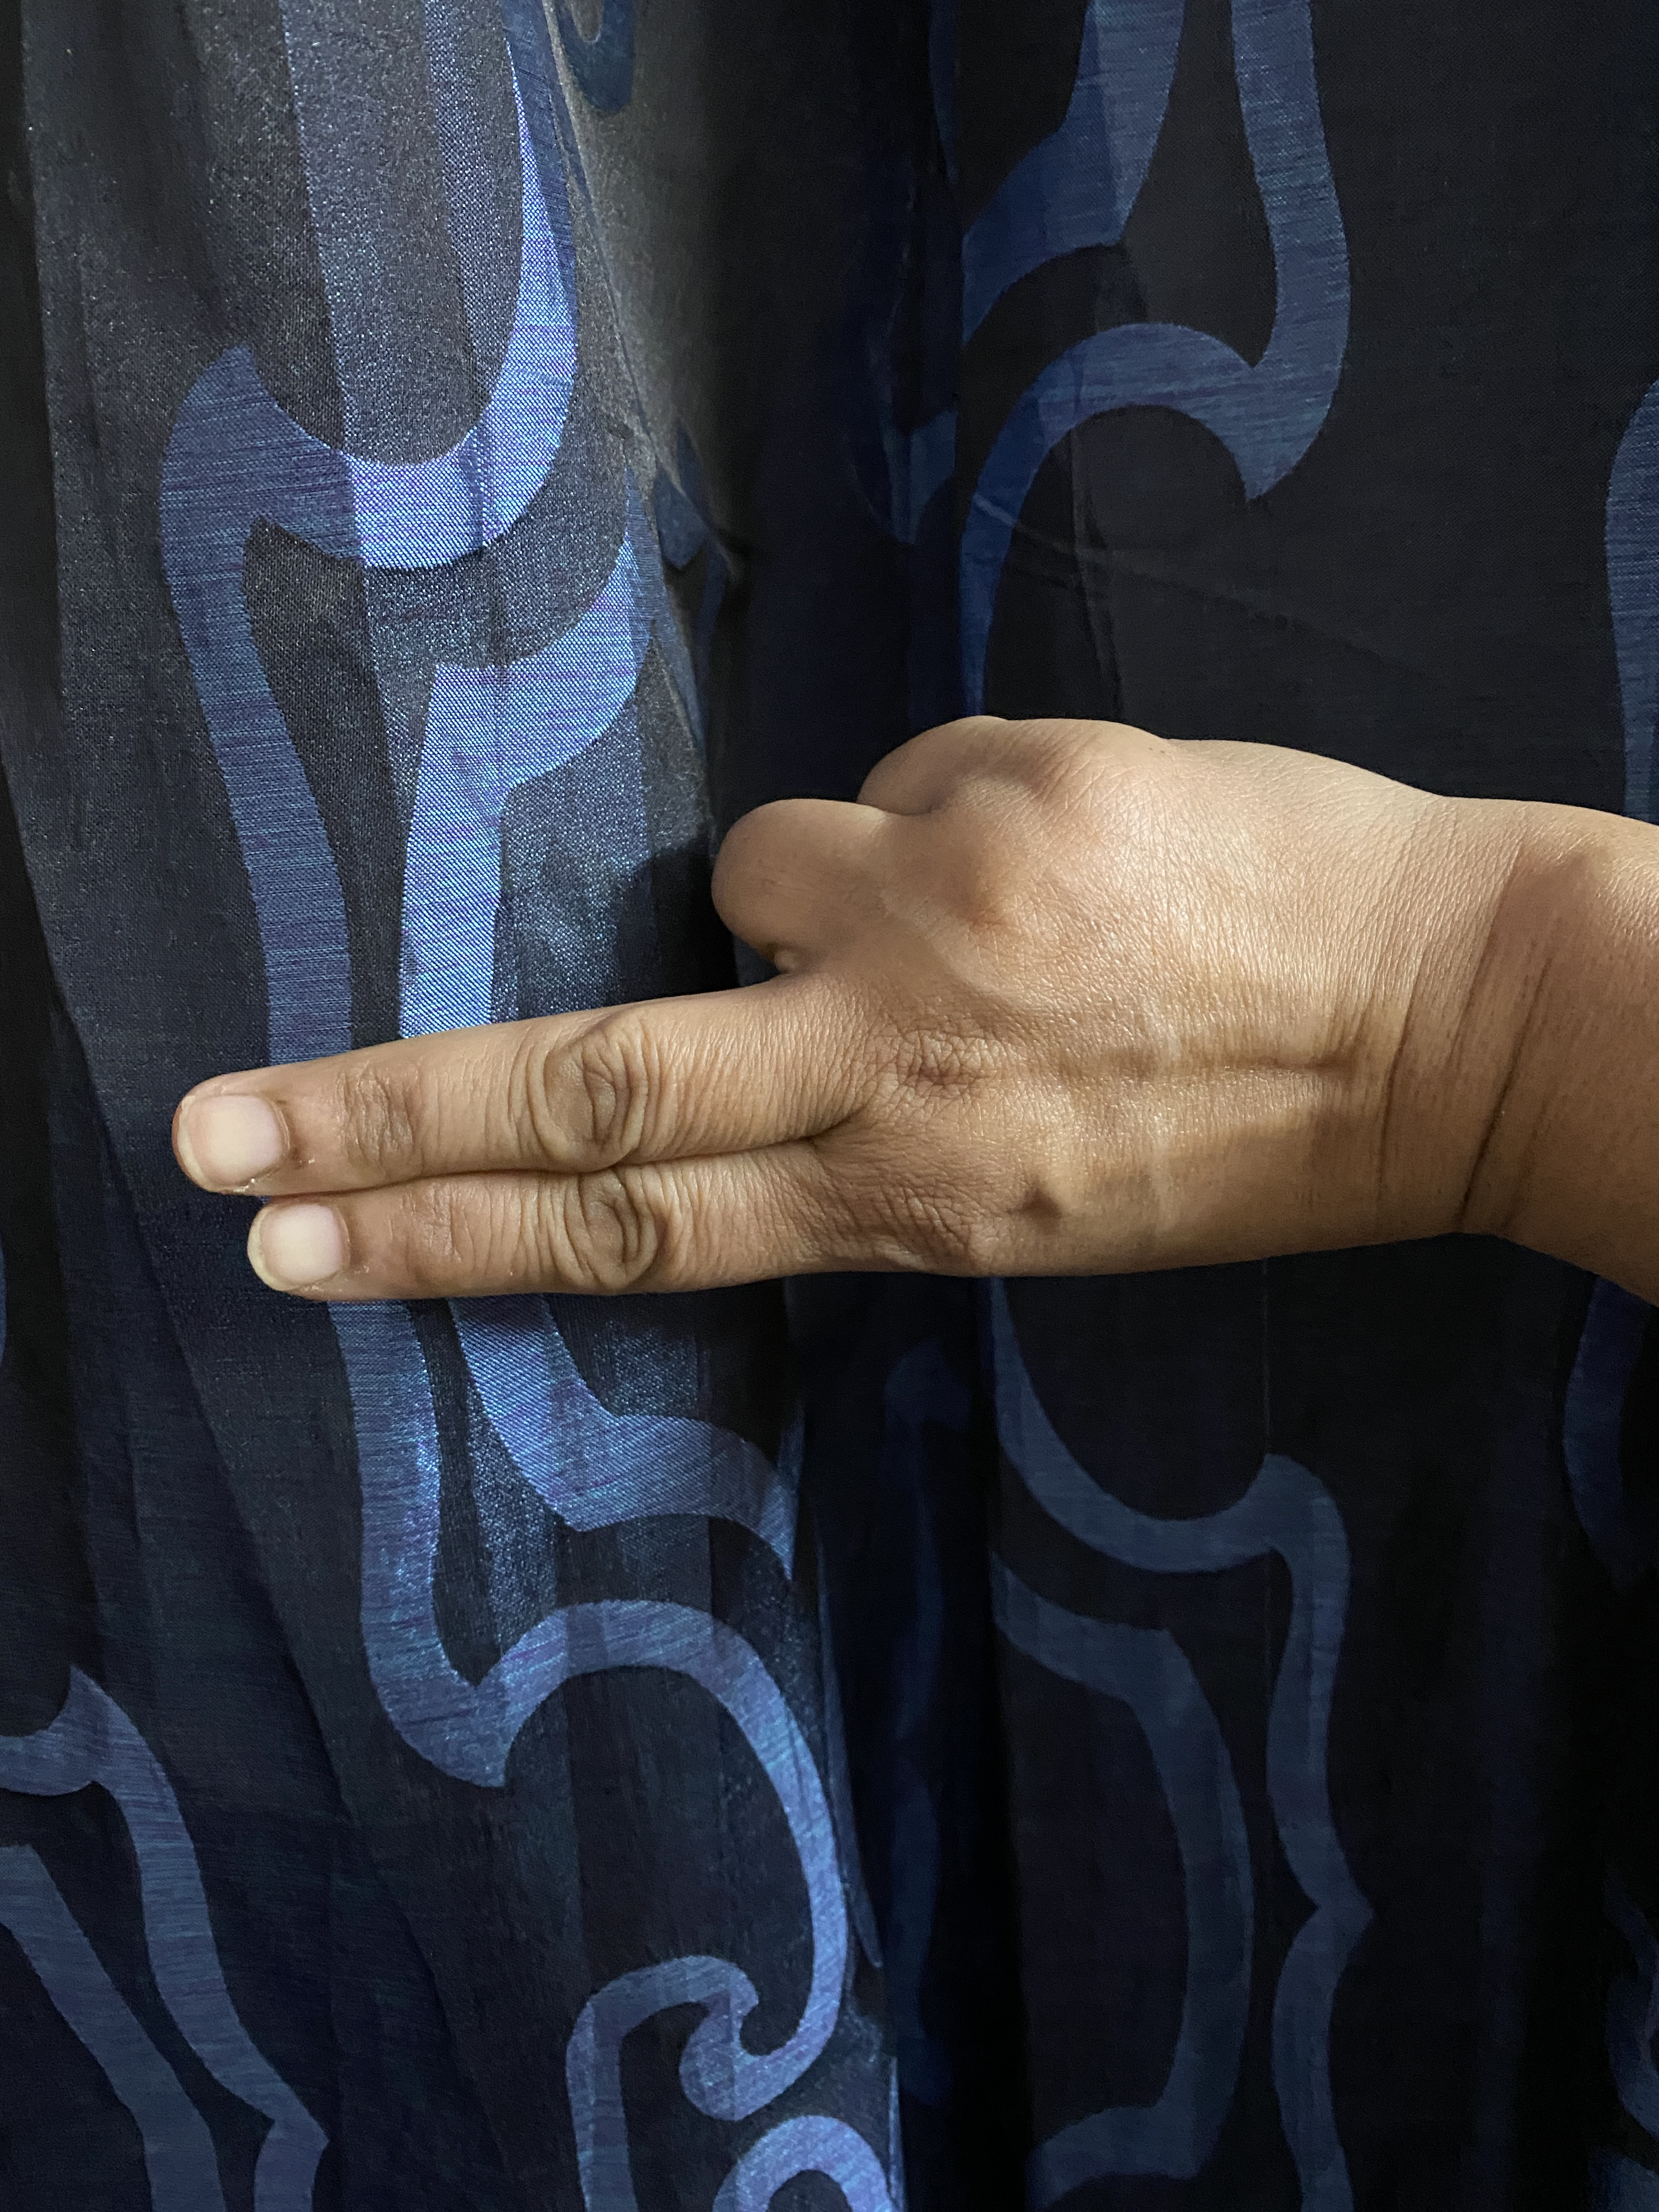right: (73, 418, 1659, 1465)
